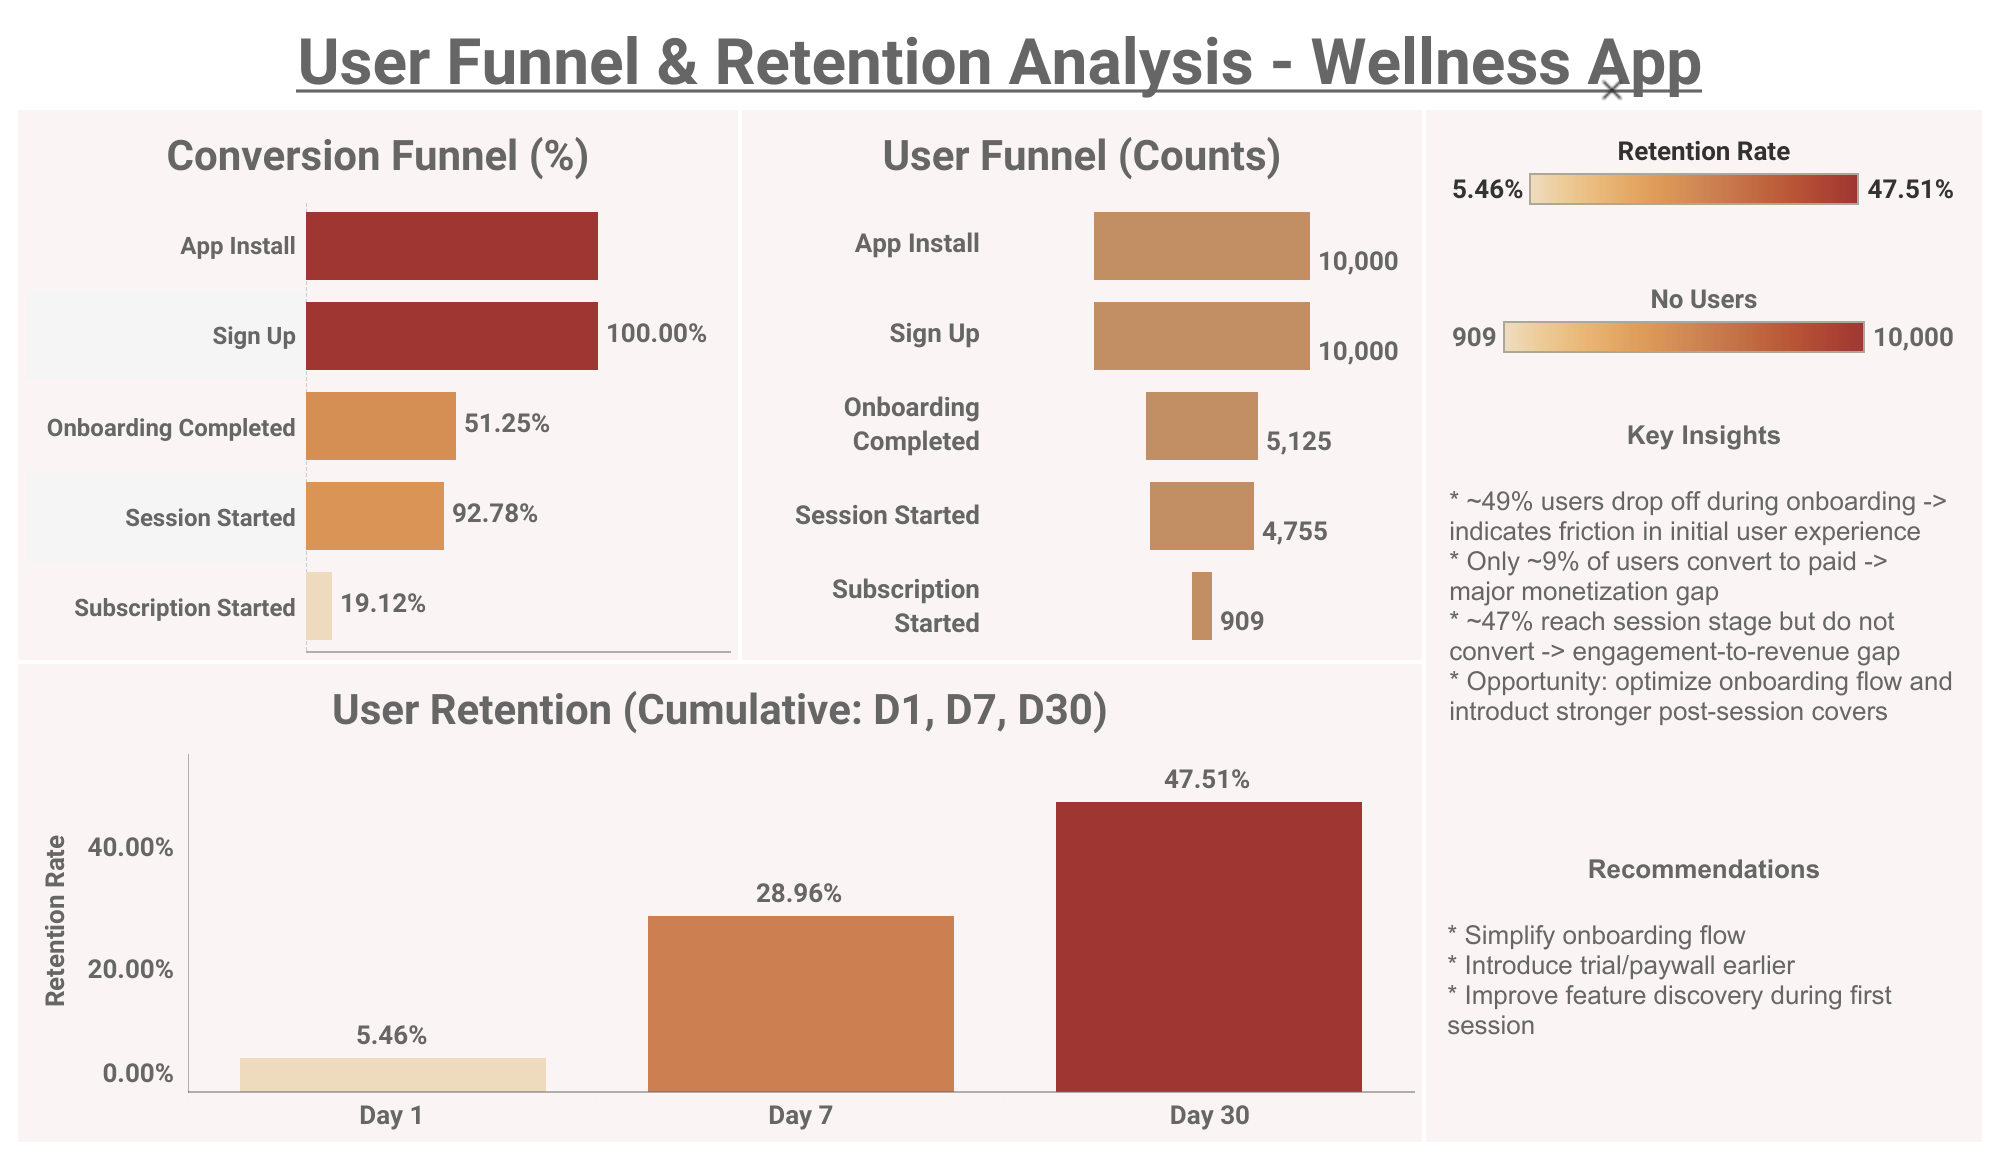

What the dashboard file says about the page in this screenshot:
{"tool":"tableau","page":{"name":"Dashboard 1","canvas":[1000,1000],"units":"permille","ordinal":0},"visuals":[{"type":"title","box":[6.6,15,986.9,86.1]},{"type":"dashboard-object","box":[798.7,63.1,14.2,27.6]},{"type":"worksheet","title":"Sheet 2","mark":"Automatic","rows":["step"],"cols":["no_users"],"box":[6.6,101.1,388.7,472.6]},{"type":"worksheet","title":"Sheet 3","mark":"Automatic","rows":["step"],"cols":["Calculation_4808225976580939776","no_users"],"box":[395.2,101.1,368.1,472.6]},{"type":"legend","title":"Sheet 4","param":"[federated.0tyy03z0xh4vg317x06vp0y2aa1g].[sum:Pivot Field Values:qk]","box":[767.5,110.5,221.8,138.6]},{"type":"legend","title":"Sheet 2","param":"[federated.0ygm9z11yp9eta15g1pbr16om2et].[sum:no_users:qk]","box":[767.5,249.1,221.8,110.5]},{"type":"text","box":[767.5,359.6,221.8,308.1]},{"type":"worksheet","title":"Sheet 4","mark":"Automatic","rows":["Pivot Field Values"],"cols":["Pivot Field Names"],"box":[6.6,573.7,756.8,411.3]},{"type":"text","box":[767.5,667.6,221.8,308.1]}]}

Visuals, with their boxes on the dashboard's canvas, which has no fixed pixel size, in thousandths of its width and height (x1, y1, x2, y2). These are canvas units, not pixel positions in the 1998x1158 screenshot, which may show the page scaled, cropped or inside an application window:
title: l=7, t=15, r=994, b=101
dashboard-object: l=799, t=63, r=813, b=91
"Sheet 2" worksheet: l=7, t=101, r=395, b=574
"Sheet 3" worksheet: l=395, t=101, r=763, b=574
"Sheet 4" legend: l=768, t=110, r=989, b=249
"Sheet 2" legend: l=768, t=249, r=989, b=360
text: l=768, t=360, r=989, b=668
"Sheet 4" worksheet: l=7, t=574, r=763, b=985
text: l=768, t=668, r=989, b=976
